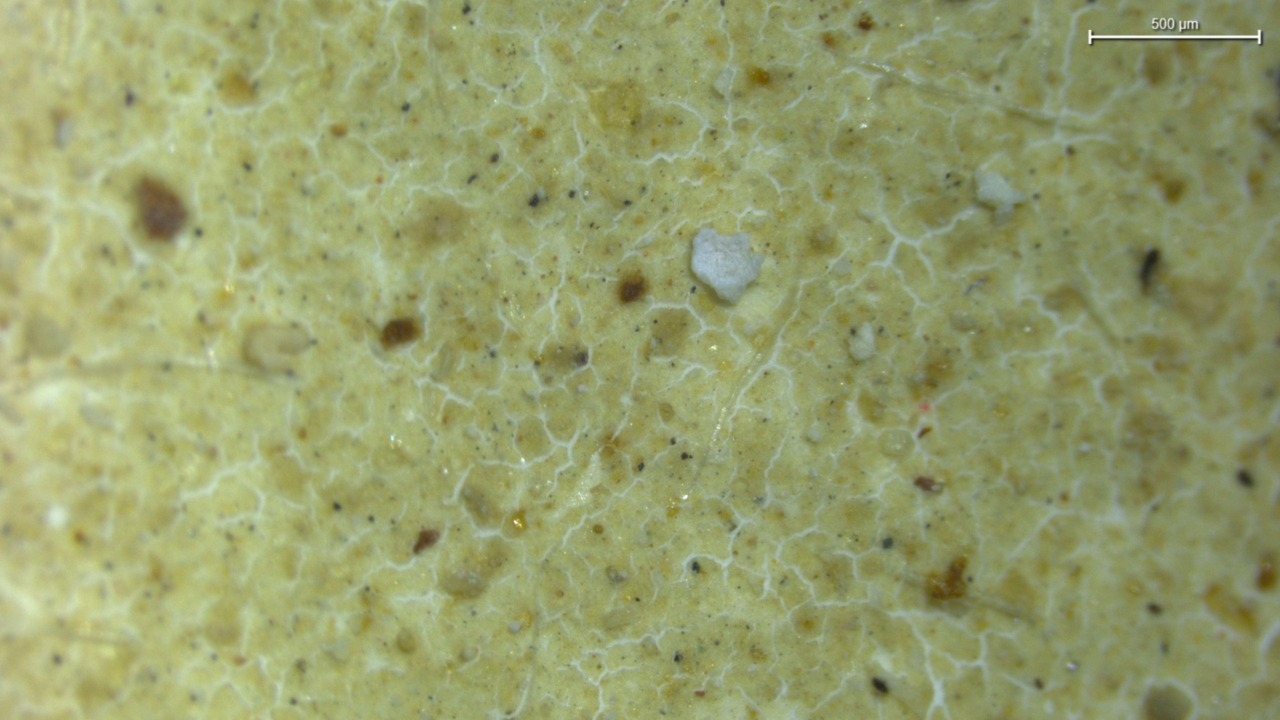microplastic_fragment: (691, 228, 763, 303), (975, 171, 1027, 223), (848, 322, 876, 361)
